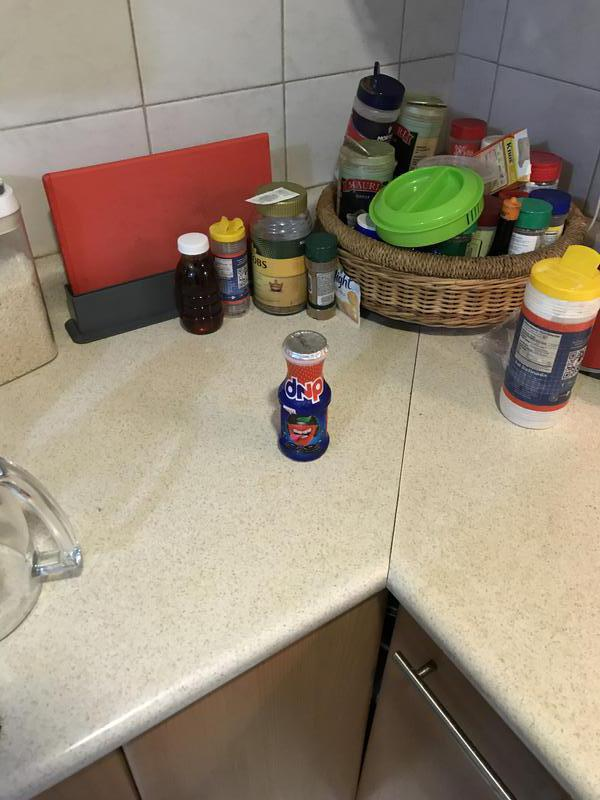danup: (277, 333, 332, 463)
